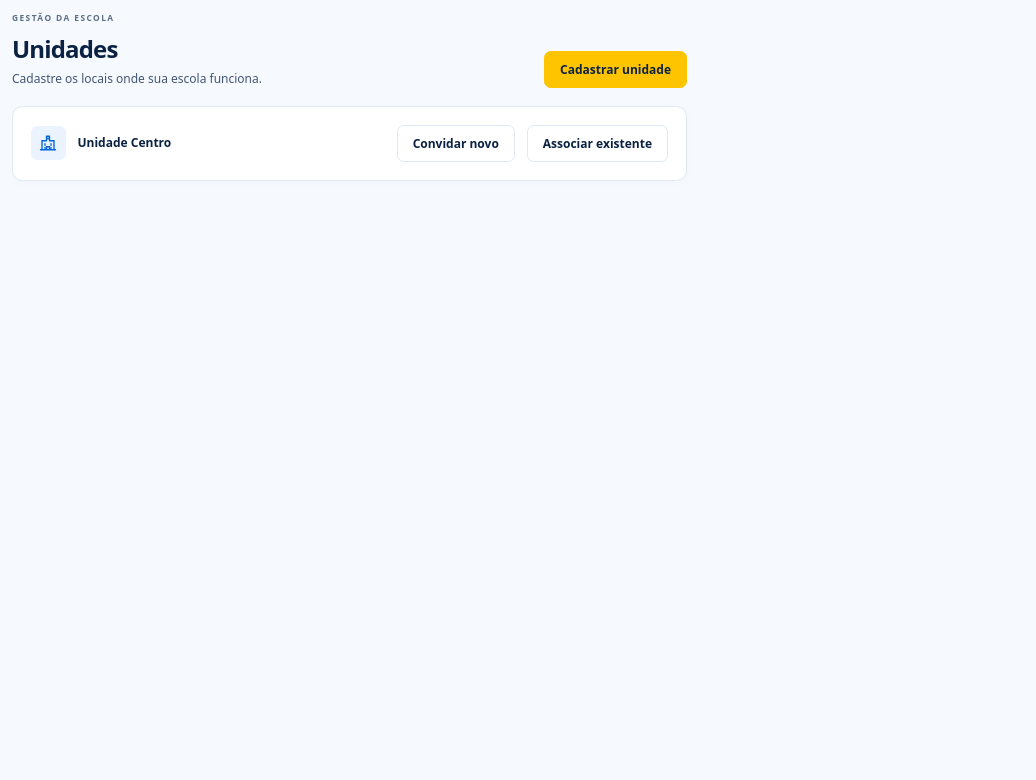
Test case: fluxo de unidades › abre o nome da unidade e apresenta dados e administradores vinculados
The image size is (1036, 780).
Click the link "Unidade Centro". click: (124, 143)
box: [78,134,171,151]
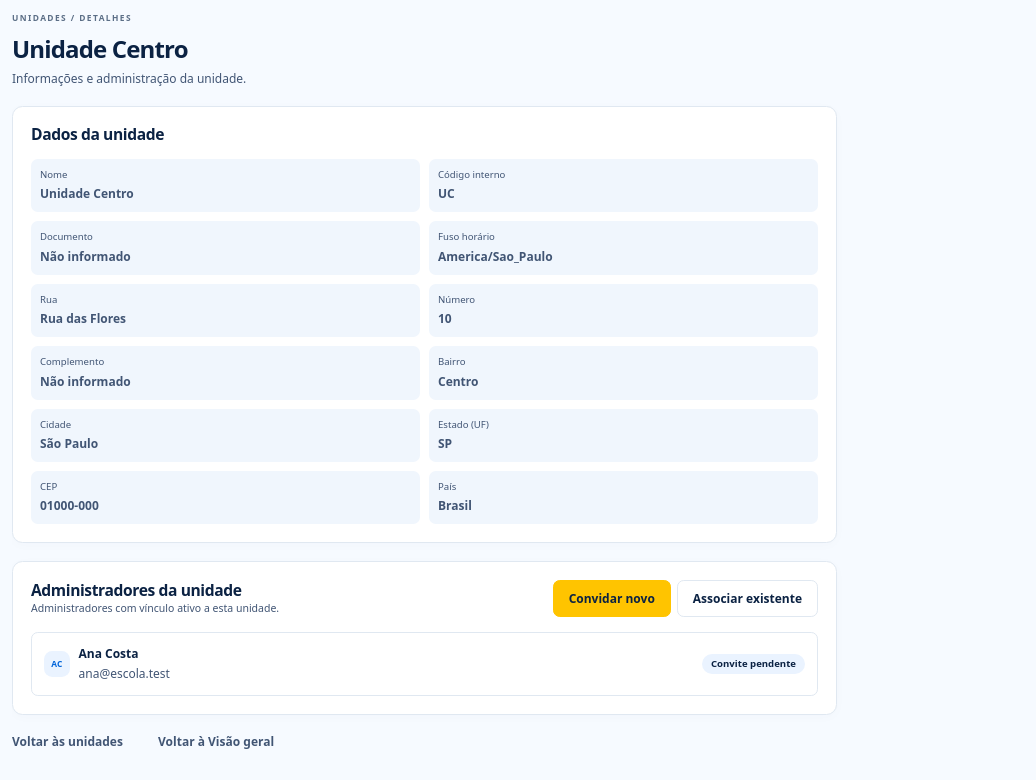
expect the heading "Unidade Centro" is shown: met, box [12,32,188,65]
expect the text "Rua das Flores" is shown: met, box [40,310,126,327]
expect the text "Ana Costa" is shown: met, box [78,645,138,663]
